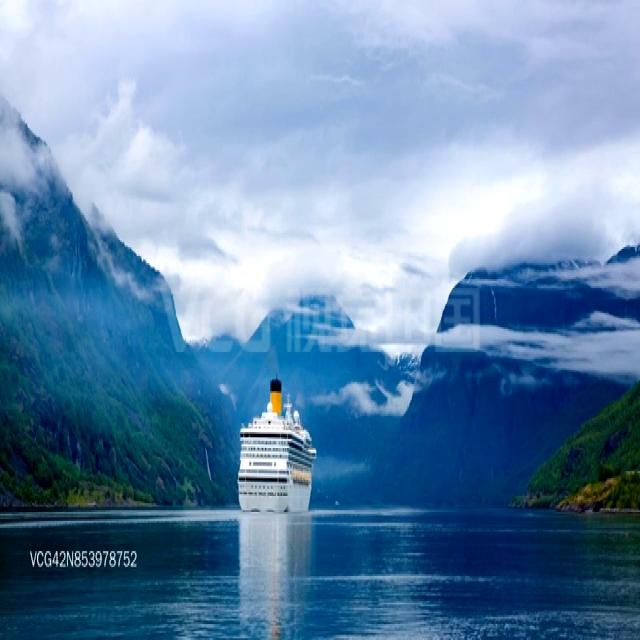passenger ship: (235, 377, 315, 513)
